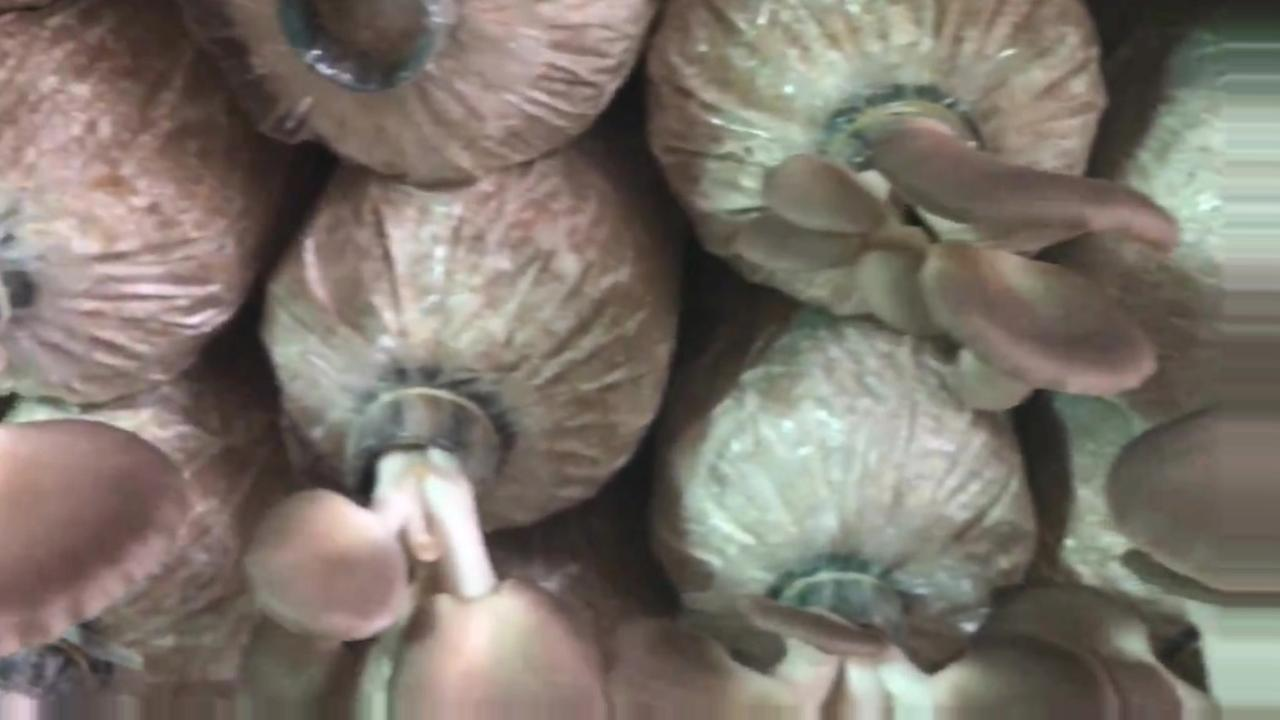nam: (760, 99, 1178, 412), (252, 371, 601, 720), (610, 556, 1117, 720), (1, 420, 202, 657), (1114, 416, 1280, 595)
